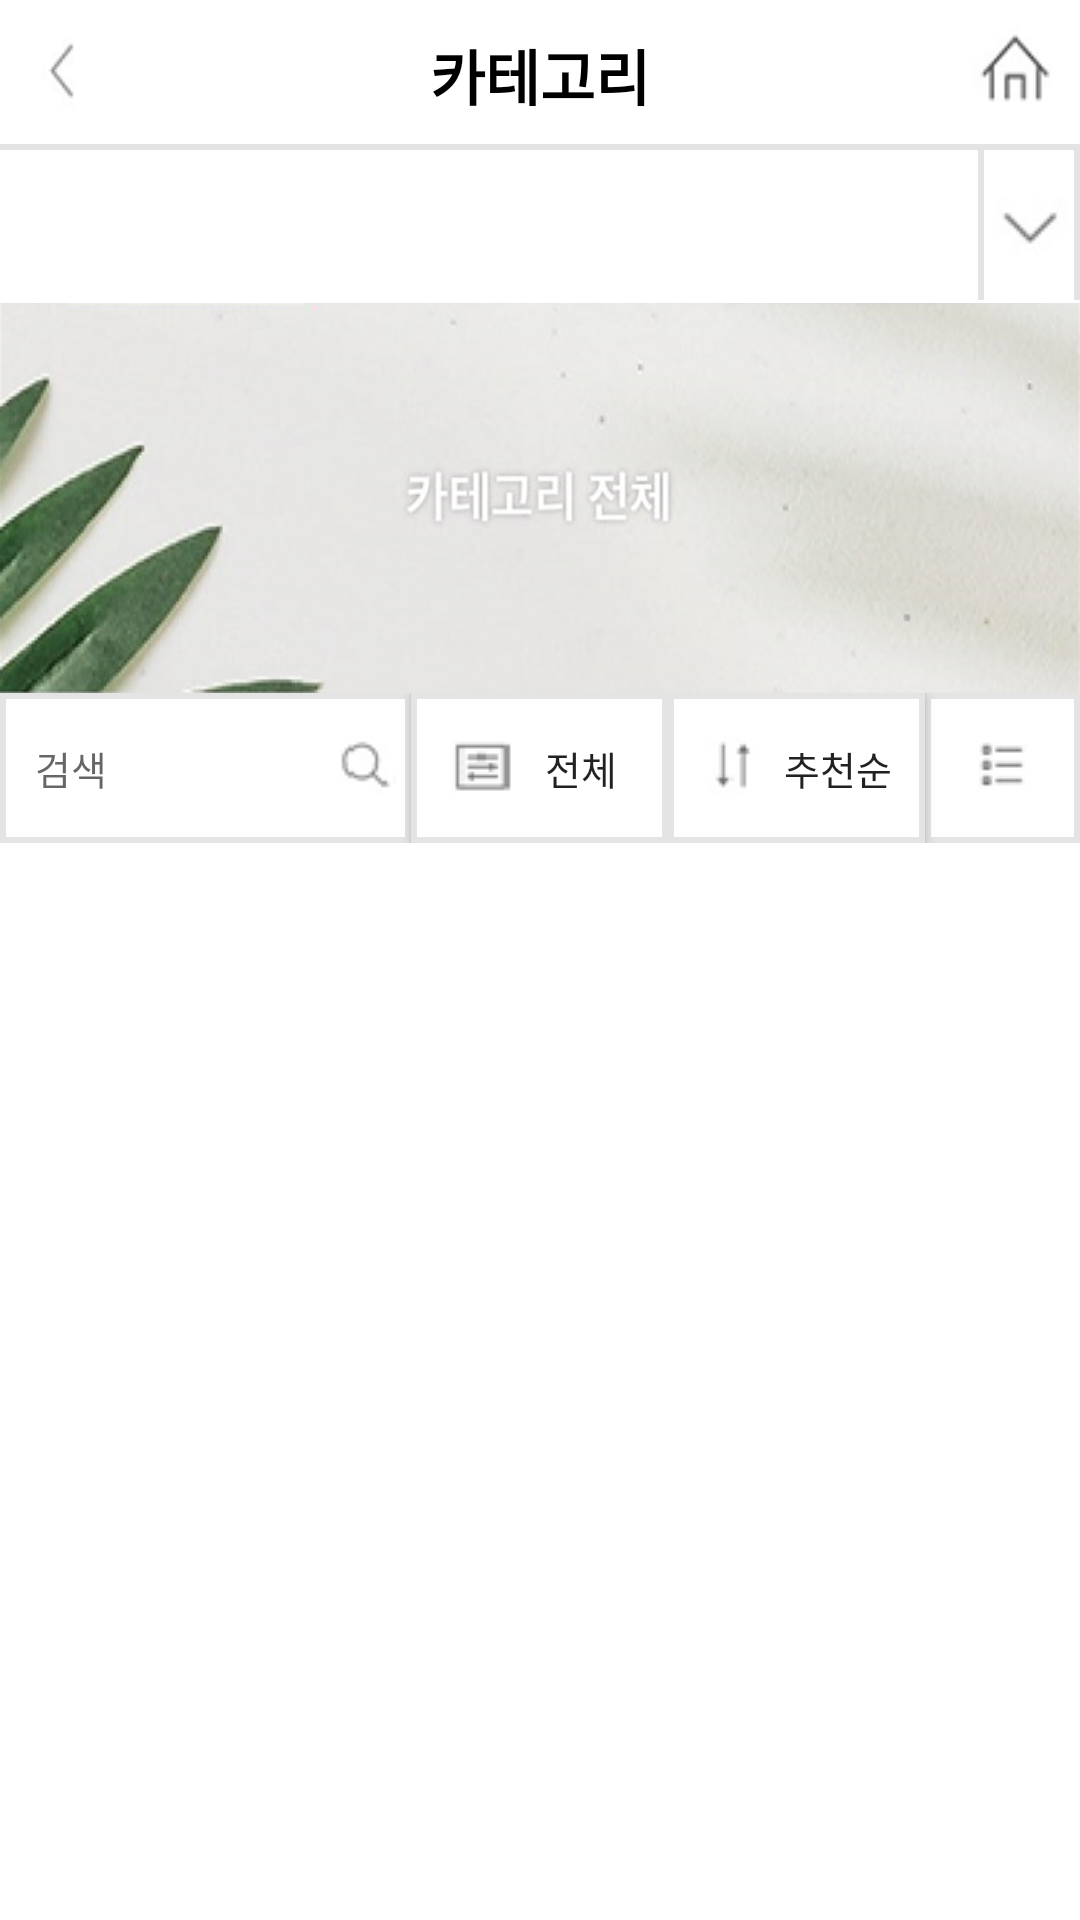

Icon bounding boxes for this 1080×1920 phone screenshot, format (x1, y1, x2, y2):
back: (50, 44, 73, 98)
home: (981, 35, 1050, 101)
